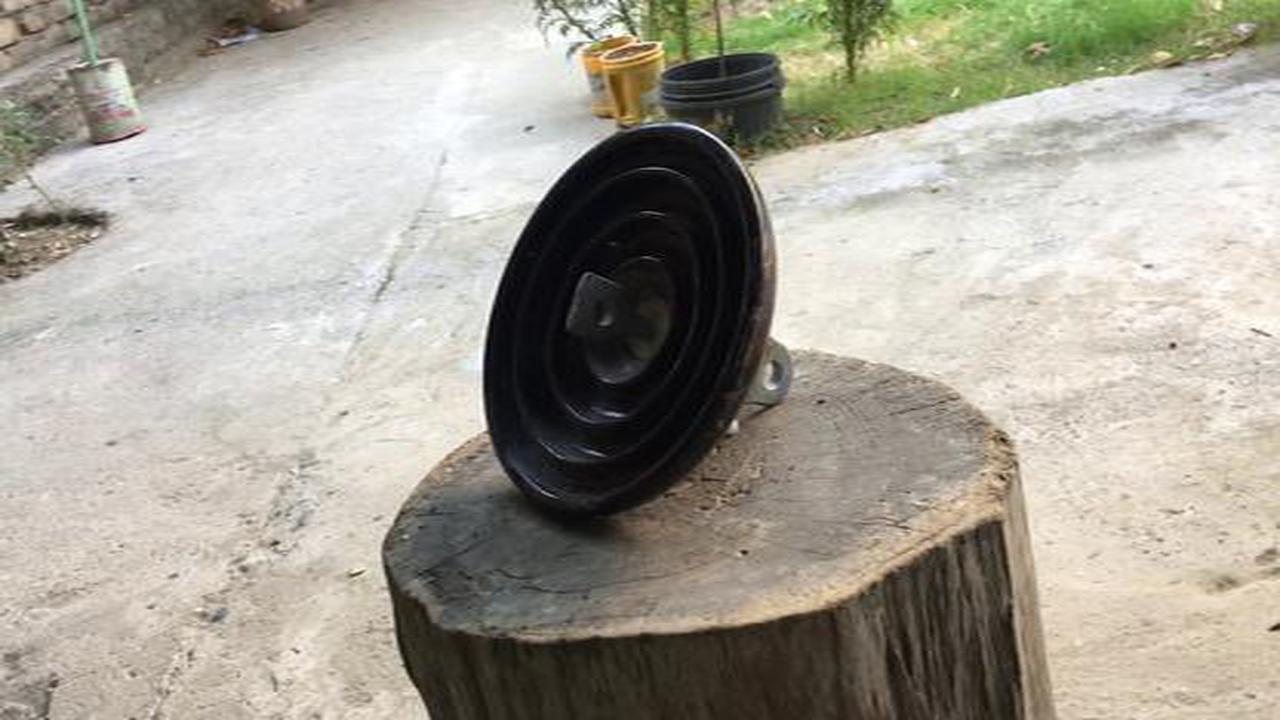insulator_disc: (480, 115, 796, 531)
